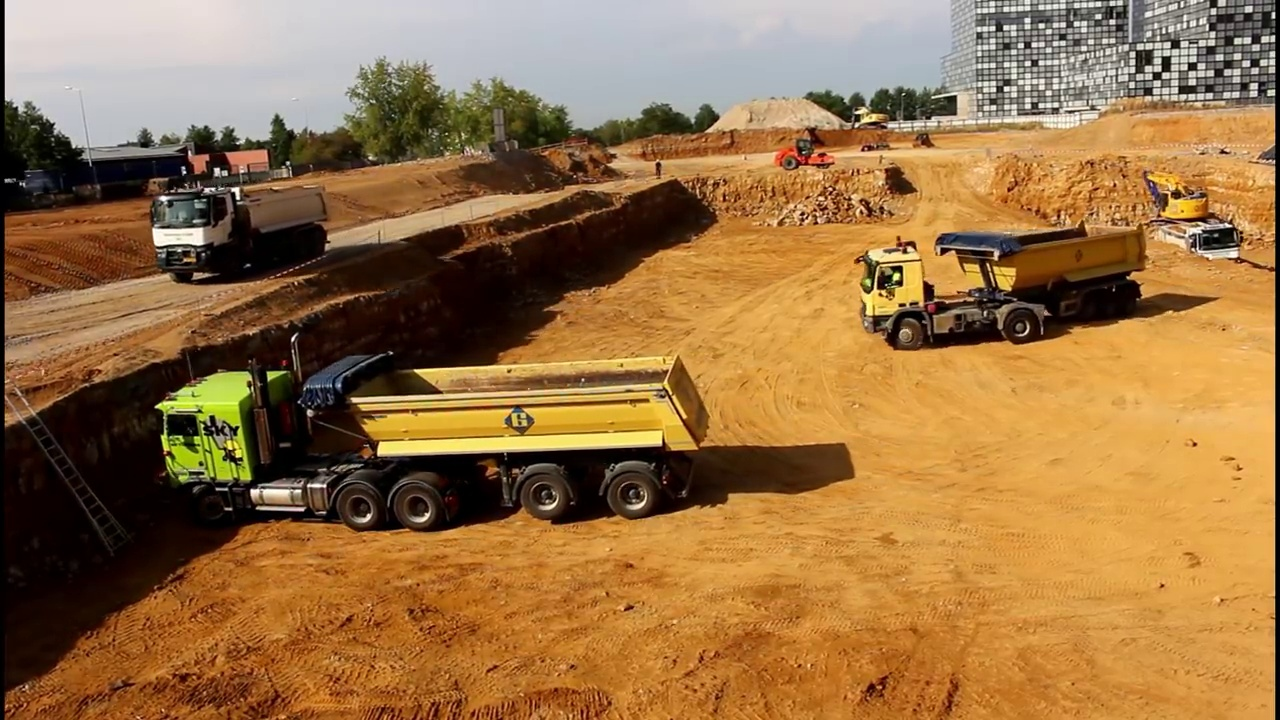compactor: (772, 134, 836, 172)
excavator: (1141, 168, 1222, 247), (846, 103, 892, 130)
truck: (151, 328, 713, 534), (851, 219, 1153, 352), (148, 181, 334, 285), (1151, 212, 1244, 269)
worker: (653, 154, 665, 183)
